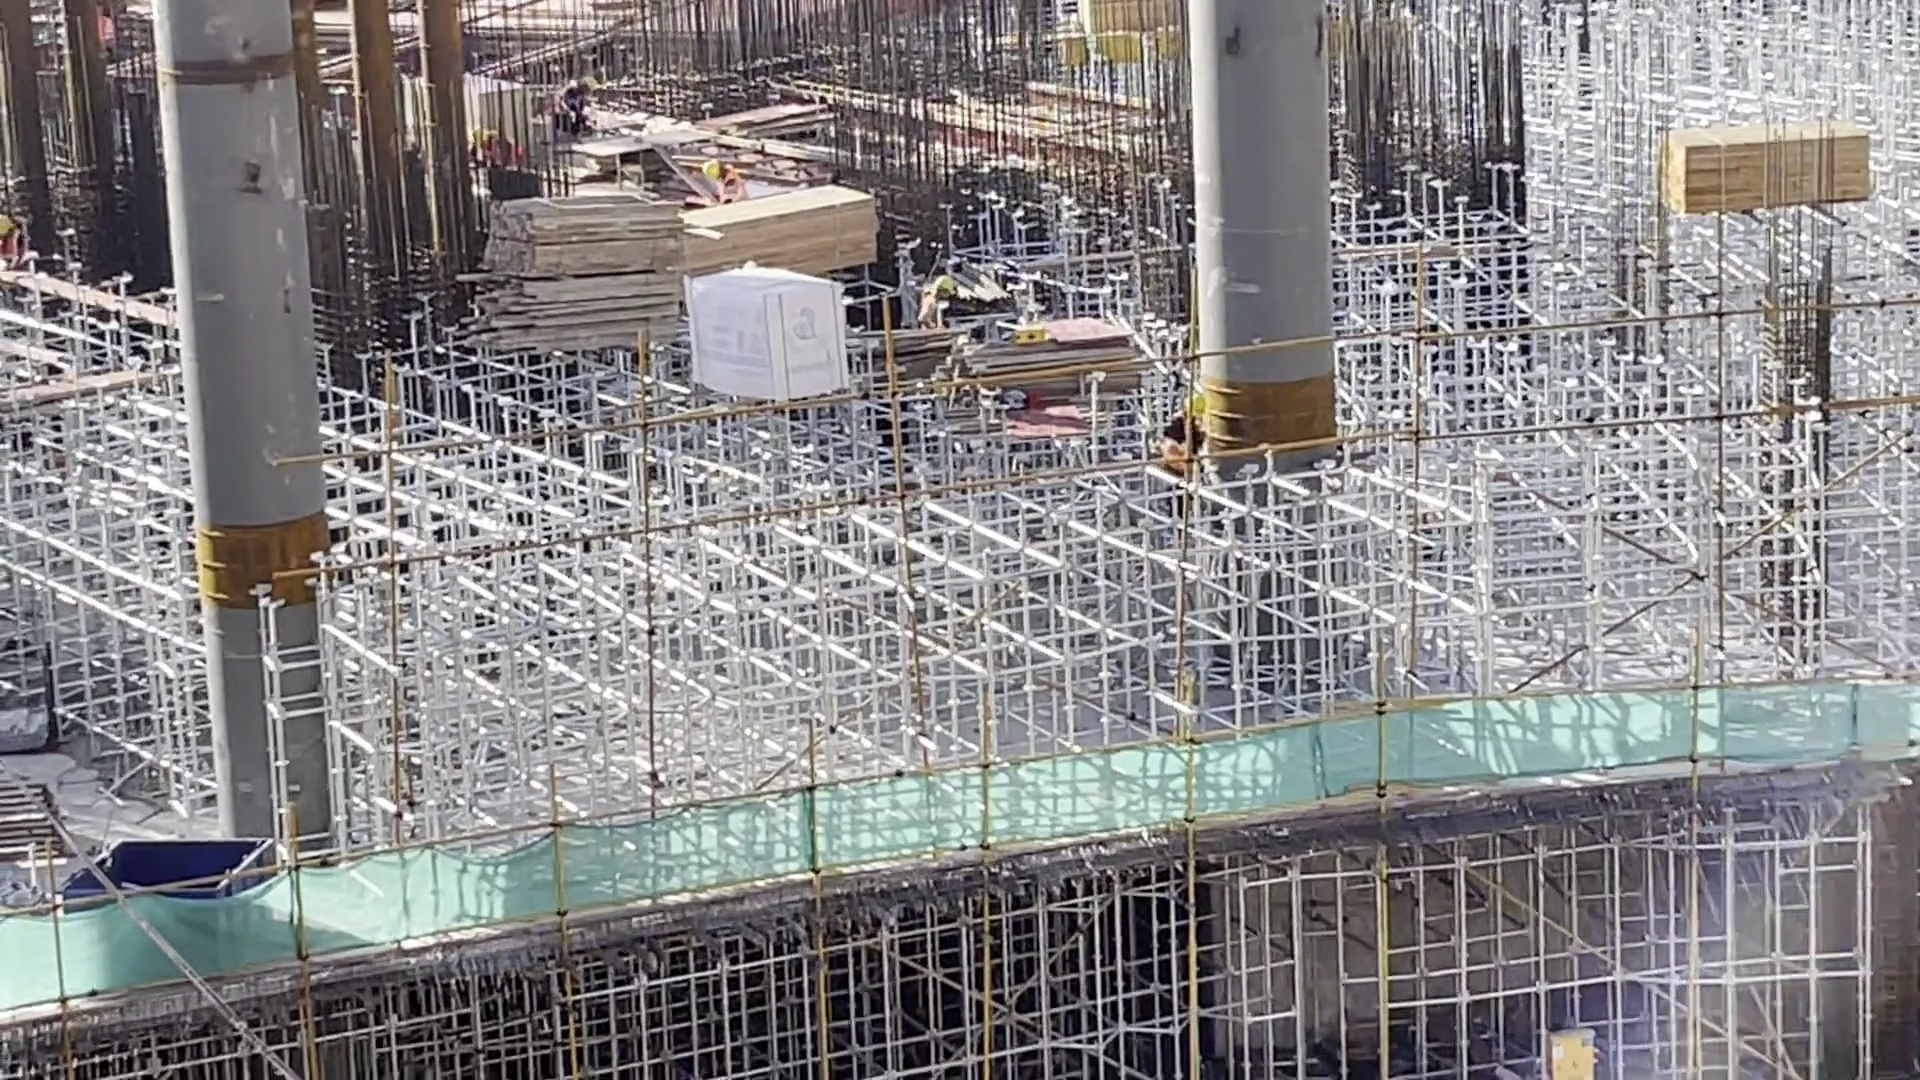board: (951, 309, 1147, 402)
ebox: (1543, 1020, 1595, 1080)
helmet: (1187, 394, 1206, 421), (704, 159, 721, 180), (934, 277, 954, 294), (581, 76, 600, 91)
hopper: (56, 837, 280, 879)
person: (1155, 390, 1212, 474), (545, 74, 600, 141), (702, 159, 749, 204), (917, 275, 953, 331)
vest: (722, 167, 747, 204)
wood: (447, 191, 686, 354), (1645, 116, 1875, 220), (685, 180, 882, 275)
